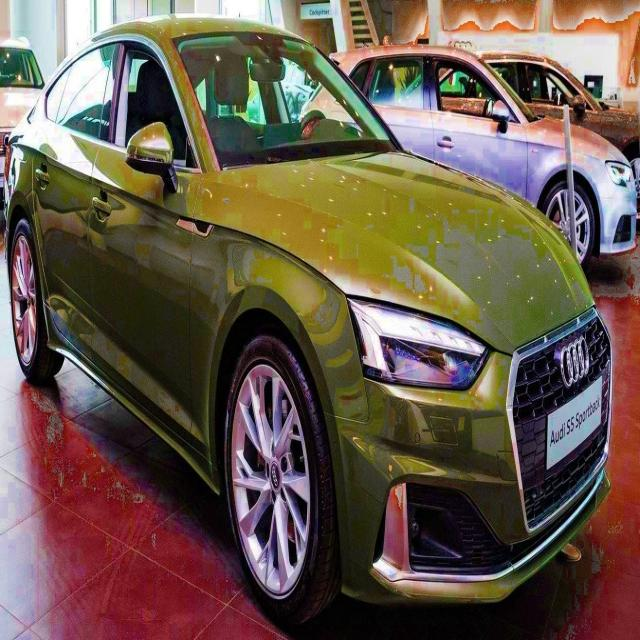green: (4, 15, 612, 629)
